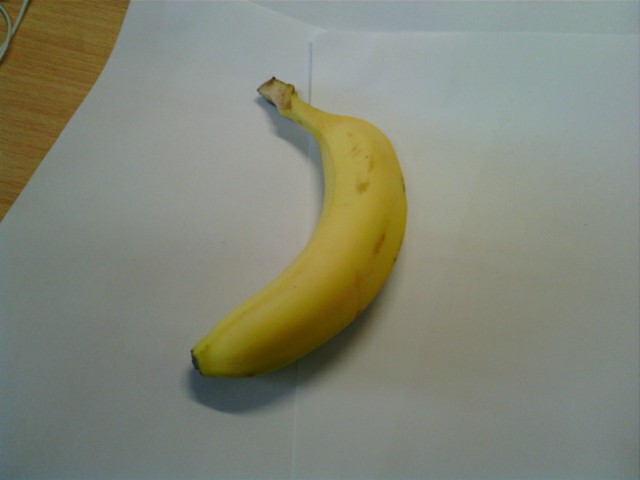fresh_banana: (187, 105, 411, 386)
